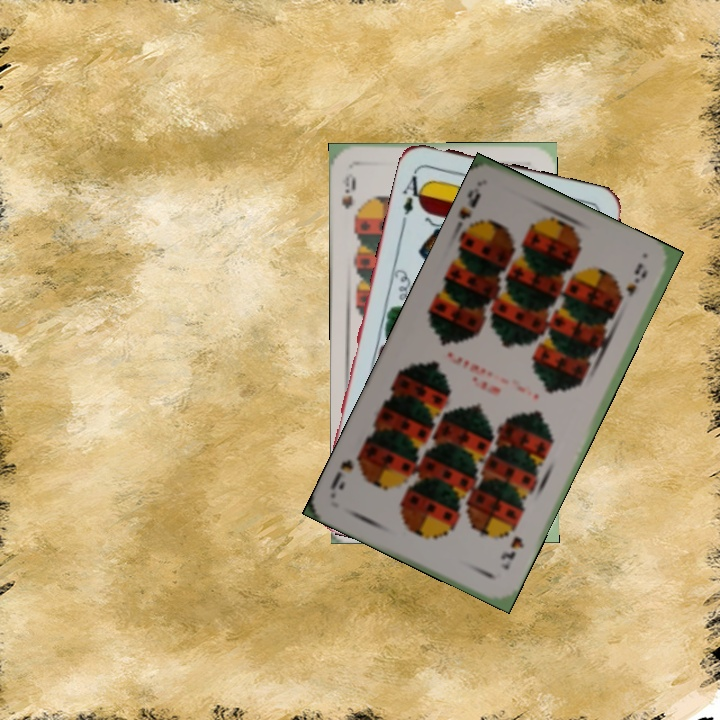EA: (398, 166, 429, 225)
S9: (449, 183, 483, 238), (338, 169, 363, 227), (496, 532, 527, 573)
